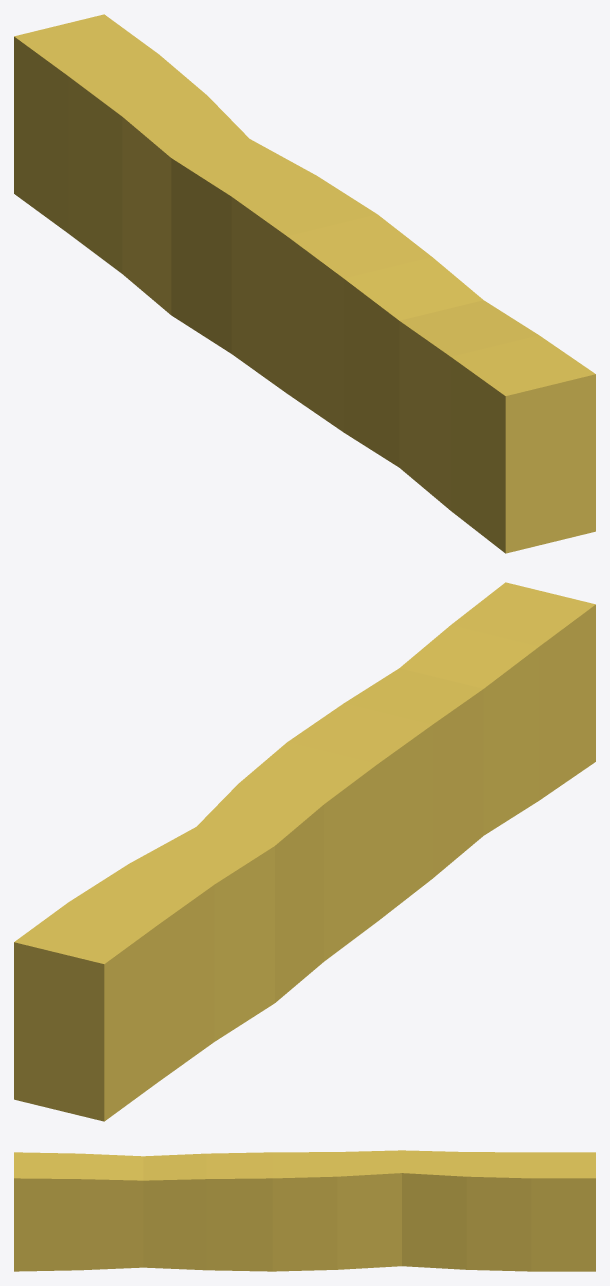
Rendered from 左横木柱2.fbx.
3 renders of one model, top to bottom at view 1: azimuth 30°, elevation 25°; view 2: azimuth 150°, elevation 25°; view 3: azimuth 270°, elevation 25°, orthographic. The views are drawn at different scales.
Parts seen in each view (by area): view 1: L.wood.3; view 2: L.wood.3; view 3: L.wood.3.
Part boxes in pixels (x1,y1,x2,y2): L.wood.3: [14, 14, 595, 553]; L.wood.3: [14, 582, 595, 1121]; L.wood.3: [14, 1150, 595, 1271].
Bounding box in the file's own units: 24.61 × 38.14 × 216.
